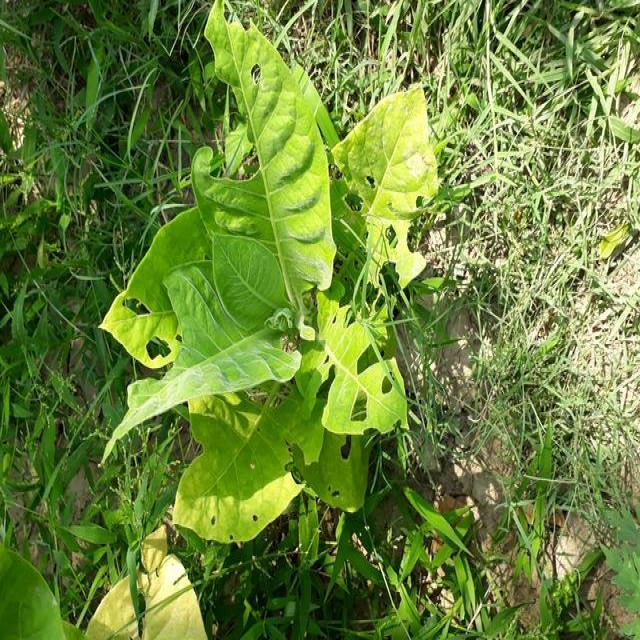crop: (103, 9, 435, 546)
